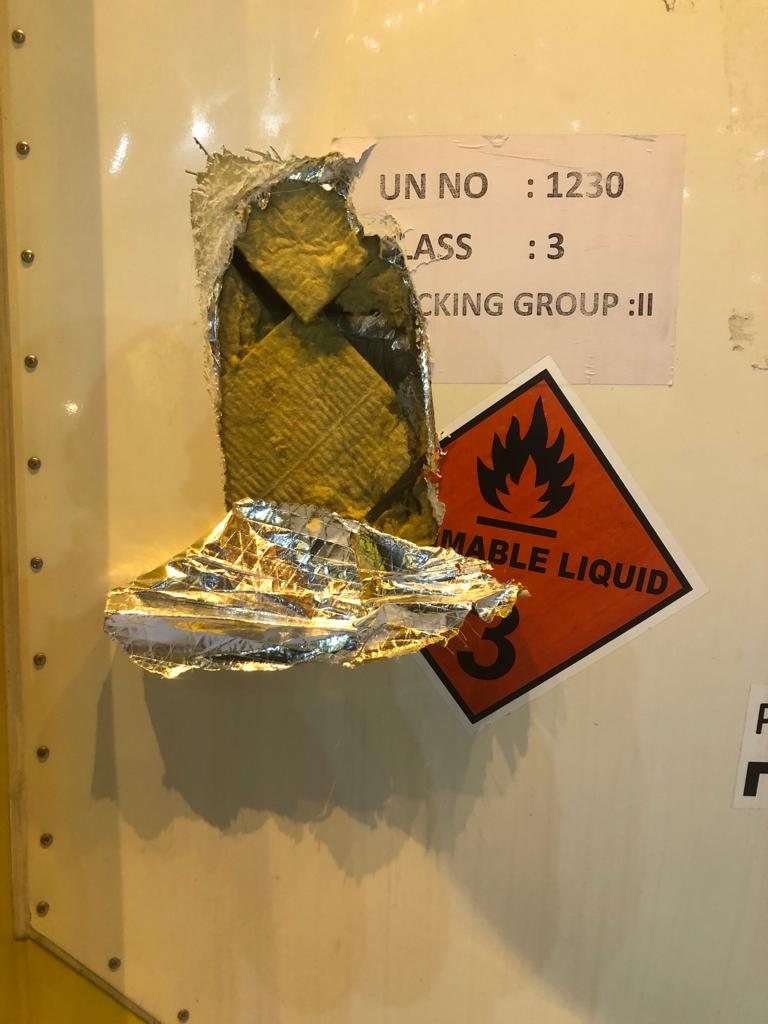severe: (127, 105, 503, 714)
